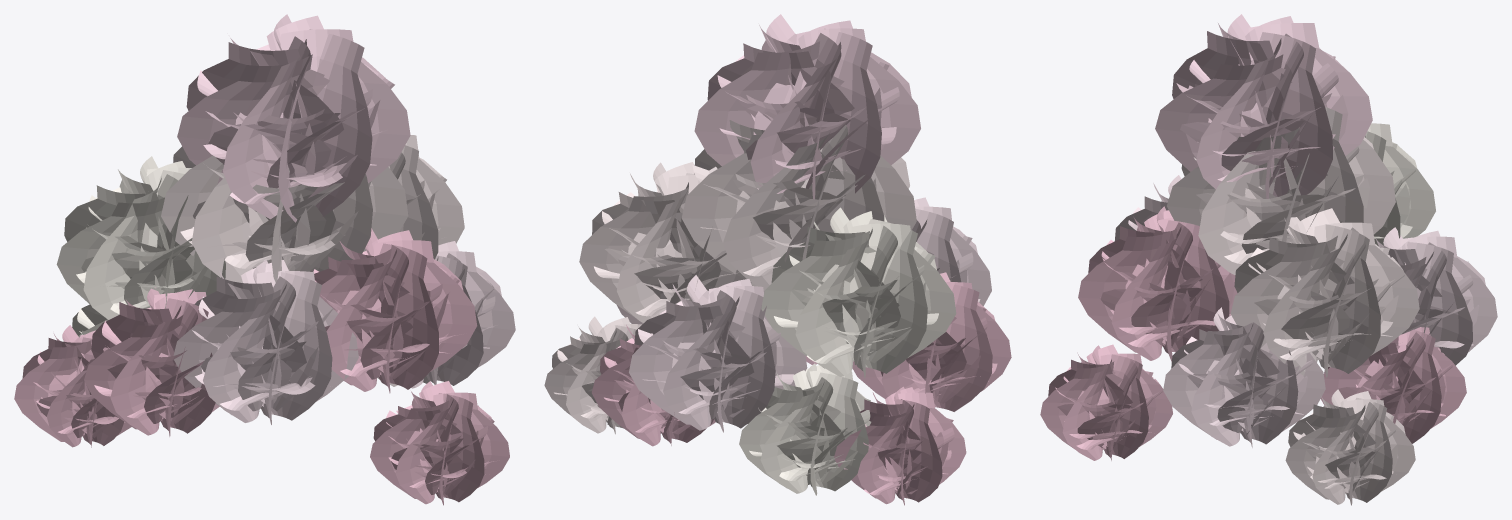
File: bouquet.glb
3 views of the same model, side by side, from view 1: azimuth 30°, elevation 25°; view 2: azimuth 150°, elevation 25°; view 3: azimuth 270°, elevation 25° (orthographic). The views are drawn at different scales.
Parts seen in each view (by area): view 1: pet; view 2: pet; view 3: pet.
Boxes of the visible parts, left/top/right/bottom form: pet: left=14, top=14, right=515, bottom=505; pet: left=544, top=14, right=1011, bottom=505; pet: left=1040, top=14, right=1497, bottom=505.
Size of the model in its own units: 0.539 by 0.4911 by 0.5284.
